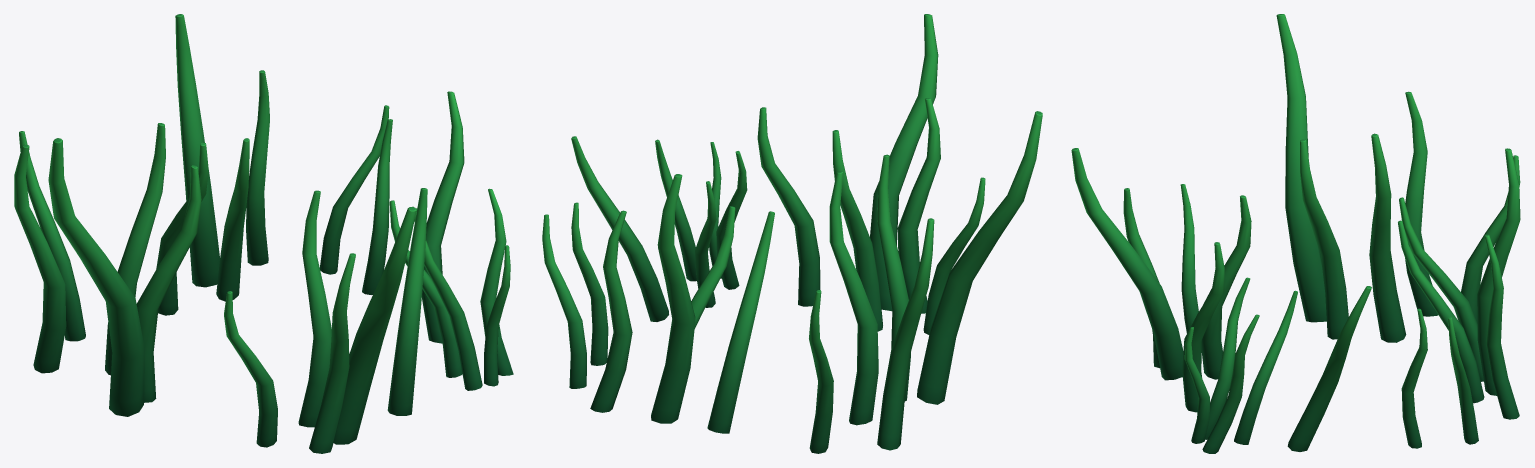
Rendered from Weed.fbx.
The picture shows the model from 3 angles, left to right: view 1: azimuth 30°, elevation 25°; view 2: azimuth 150°, elevation 25°; view 3: azimuth 270°, elevation 25°; orthographic projection. The views are drawn at different scales.
Visible parts, largest first — view 1: Weeds; view 2: Weeds; view 3: Weeds.
Part boxes in pixels (x1,y1,x2,y2): Weeds: (14,14,513,453); Weeds: (542,14,1042,453); Weeds: (1071,14,1520,453).
Size of the model in its own units: 27.68 by 18.35 by 27.48.
1 material, 1 textured.
